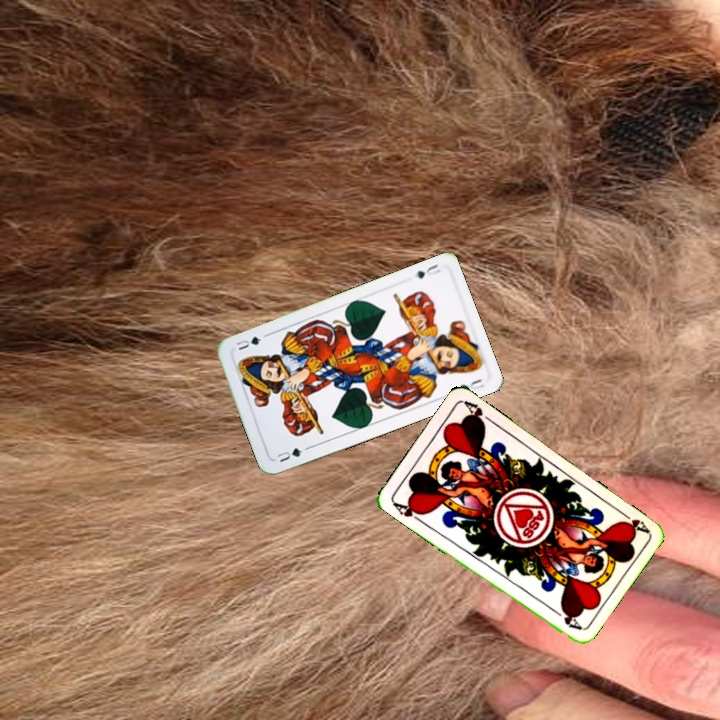GU: (410, 260, 443, 281), (273, 444, 305, 465)
HA: (615, 506, 651, 536), (389, 498, 427, 526)
